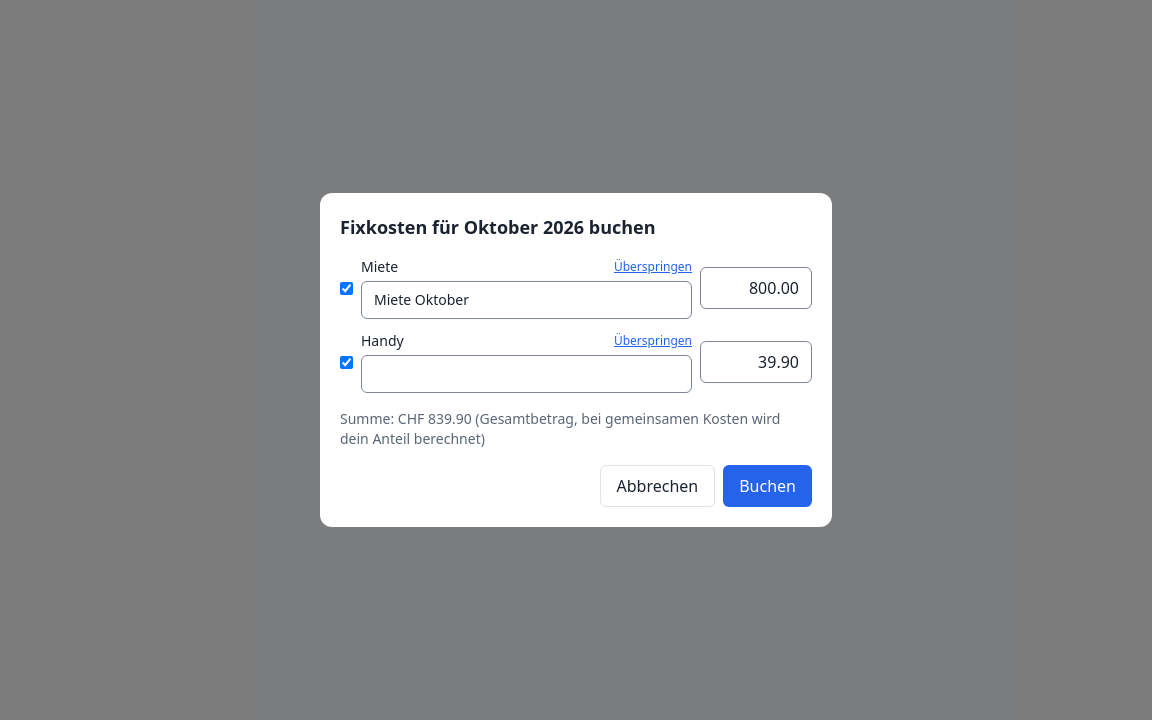
Scenario: BookTemplatesDialog › ungültiger Betrag «-5» wird gemeldet, nichts gebucht
The width and height of the screenshot is (1152, 720).
Replace the text in the field named "Betrag Handy" with "-5" at x=756, y=362, box [700,341,812,383]
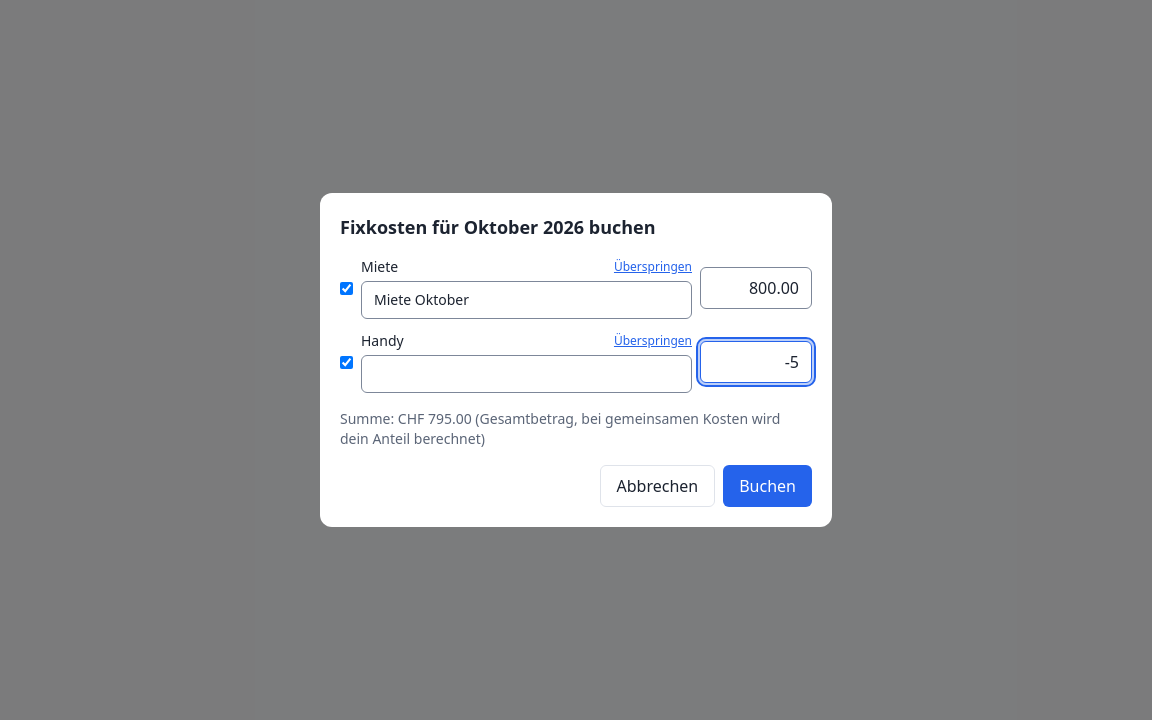
Click the button "Buchen" at x=768, y=486, box [723,465,812,507]
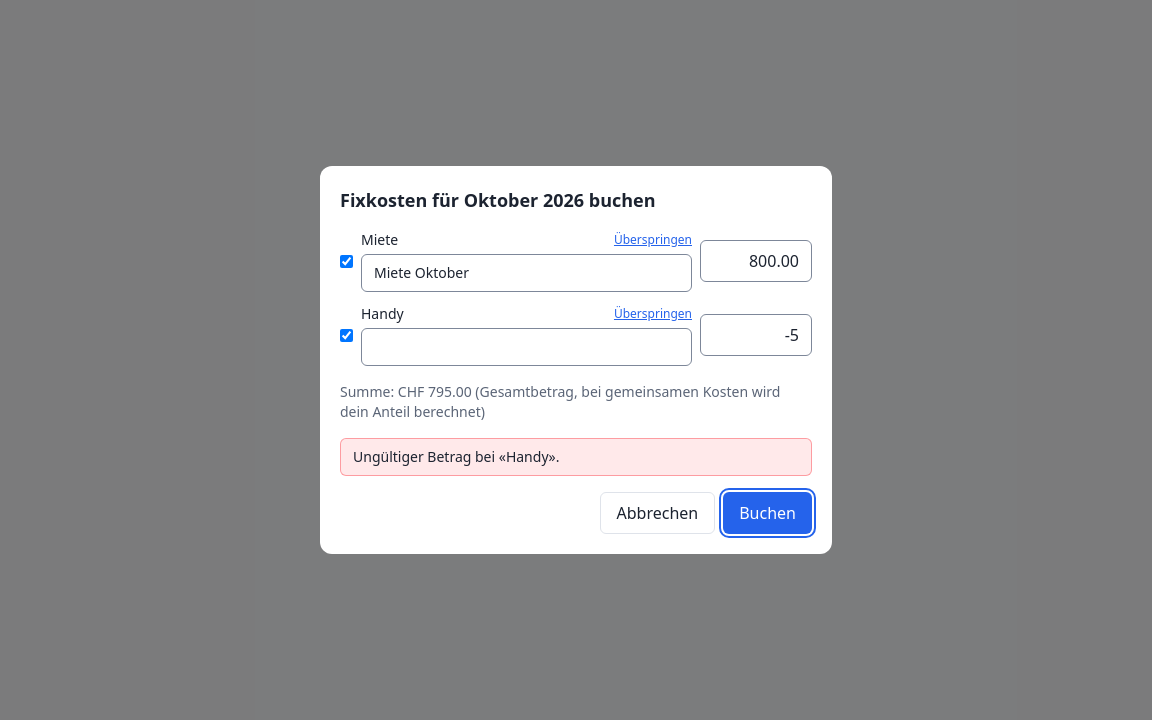
Expected: the message shows "Ungültiger Betrag bei «Handy»", [353,447,559,466]
